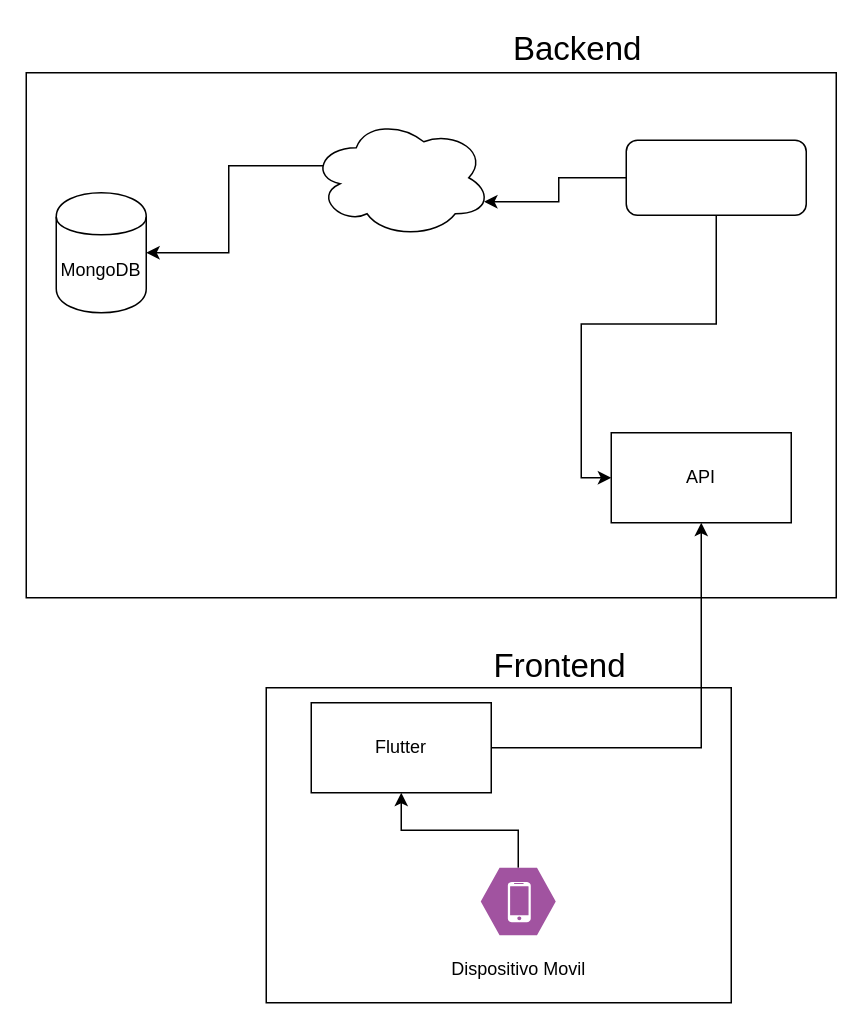
Some shapes in this 863 by 1029 pixel diagram are drawn without their labels. The box of each missing label's shape, as (x1, y1, x2, y2) in pixels:
Express: (625, 139, 806, 215)
Servidor: (310, 116, 491, 238)
